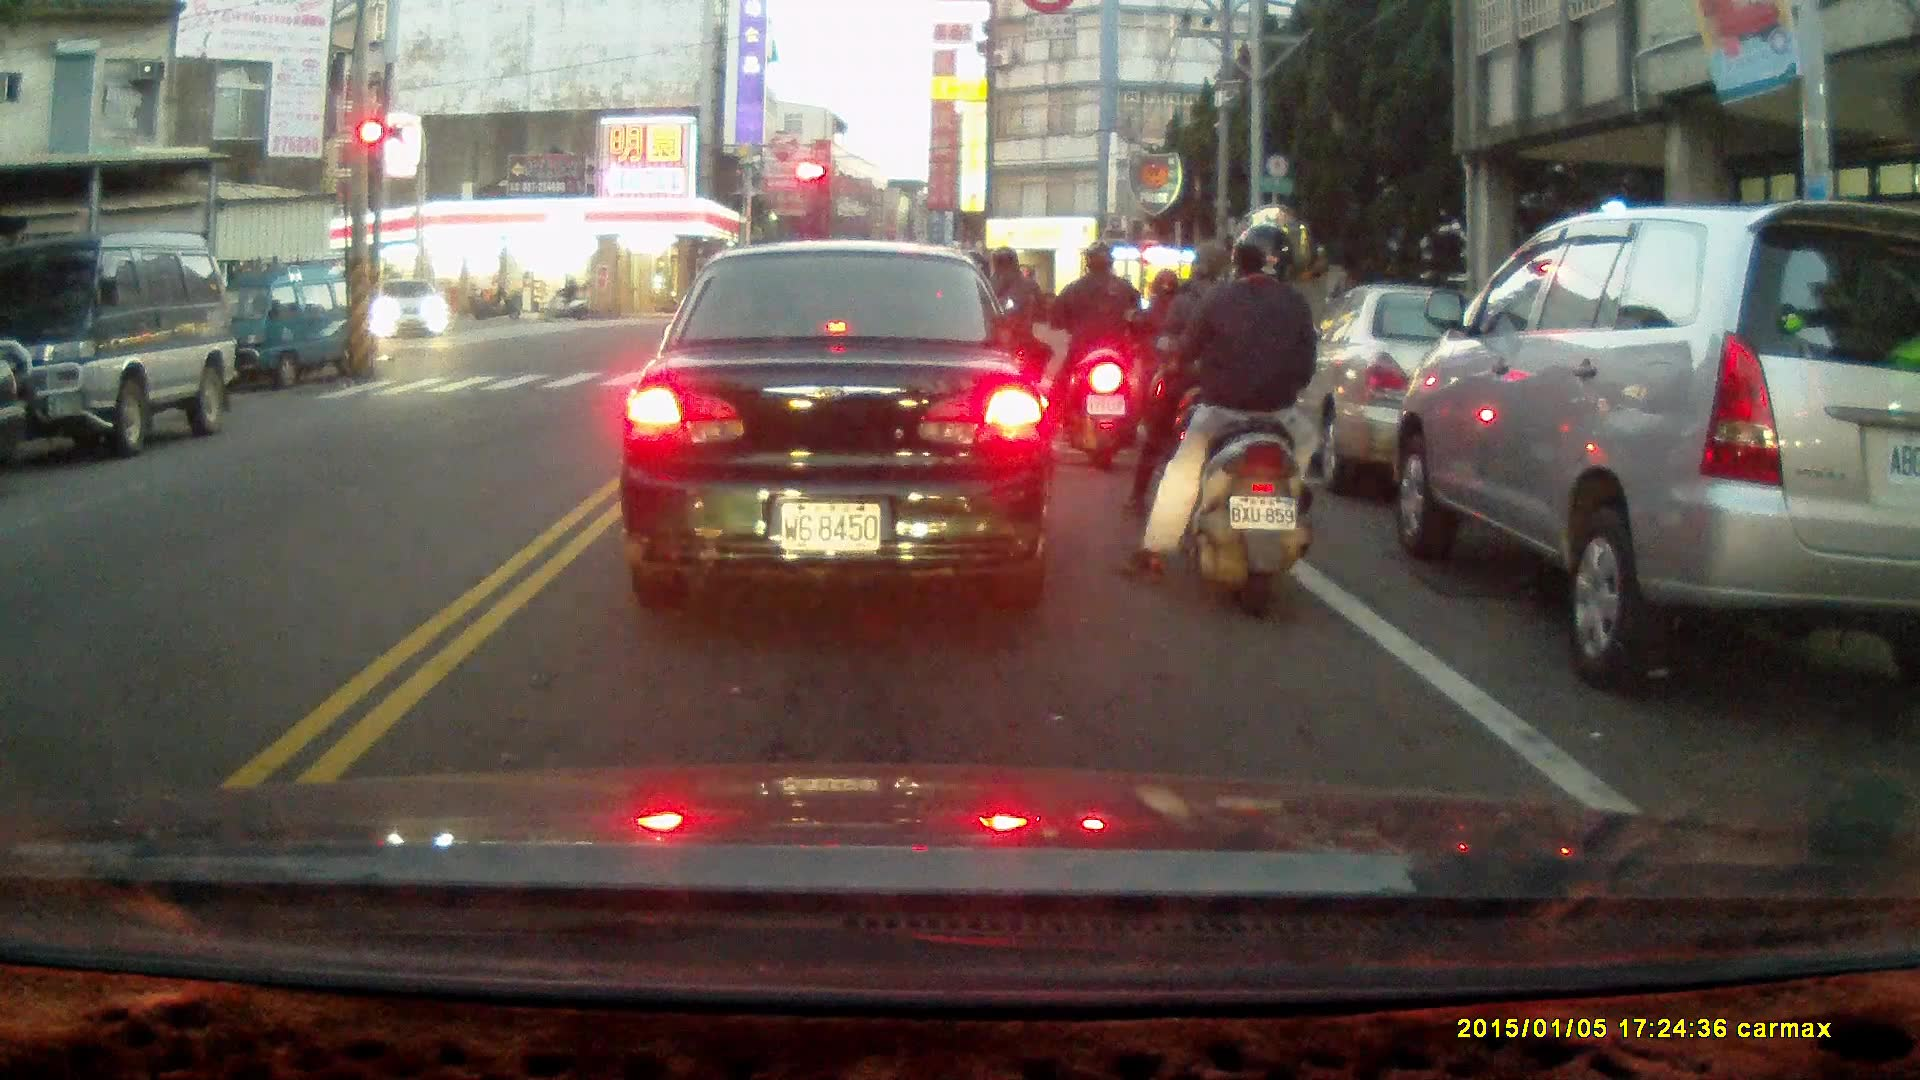rider: (1115, 225, 1315, 618), (1121, 241, 1257, 534), (1048, 243, 1142, 468), (966, 245, 1051, 440), (1132, 267, 1203, 449), (537, 272, 587, 319)
vehicle: (1391, 195, 1920, 685), (617, 243, 1061, 606), (1286, 281, 1579, 496), (1, 234, 239, 458), (194, 255, 381, 393), (372, 277, 451, 343)
